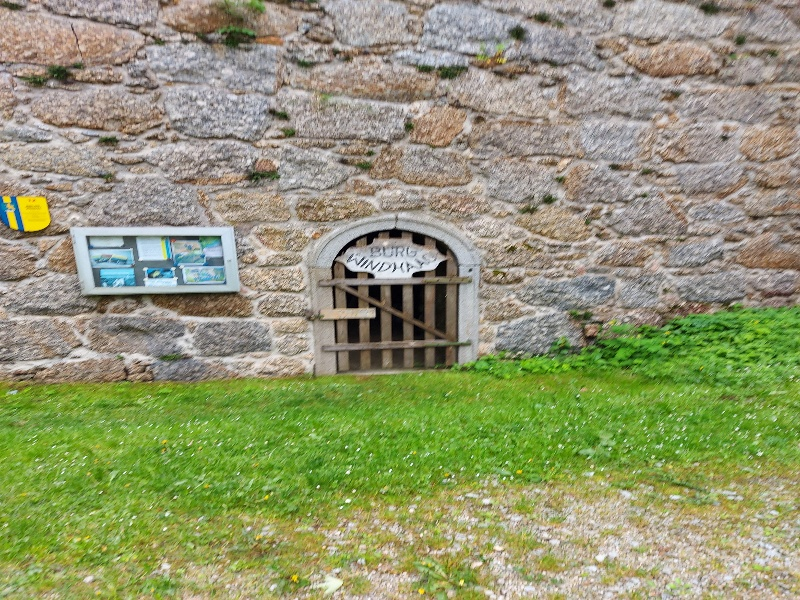dungeon: (291, 207, 495, 372)
